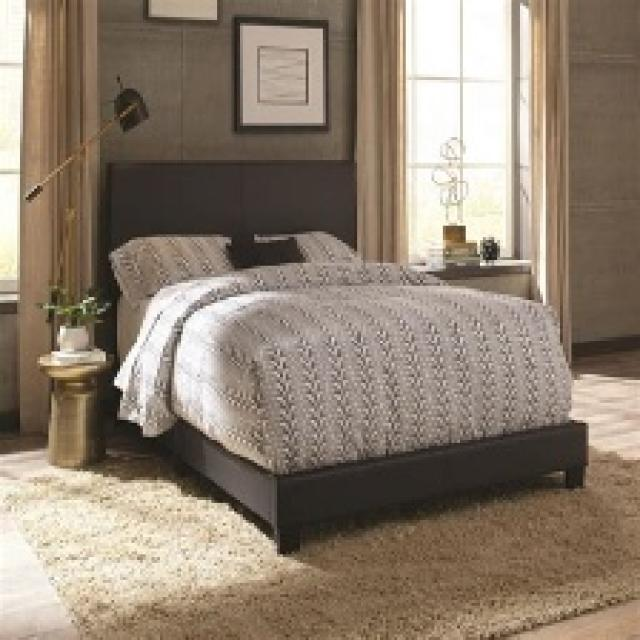Bed: (103, 157, 588, 554)
